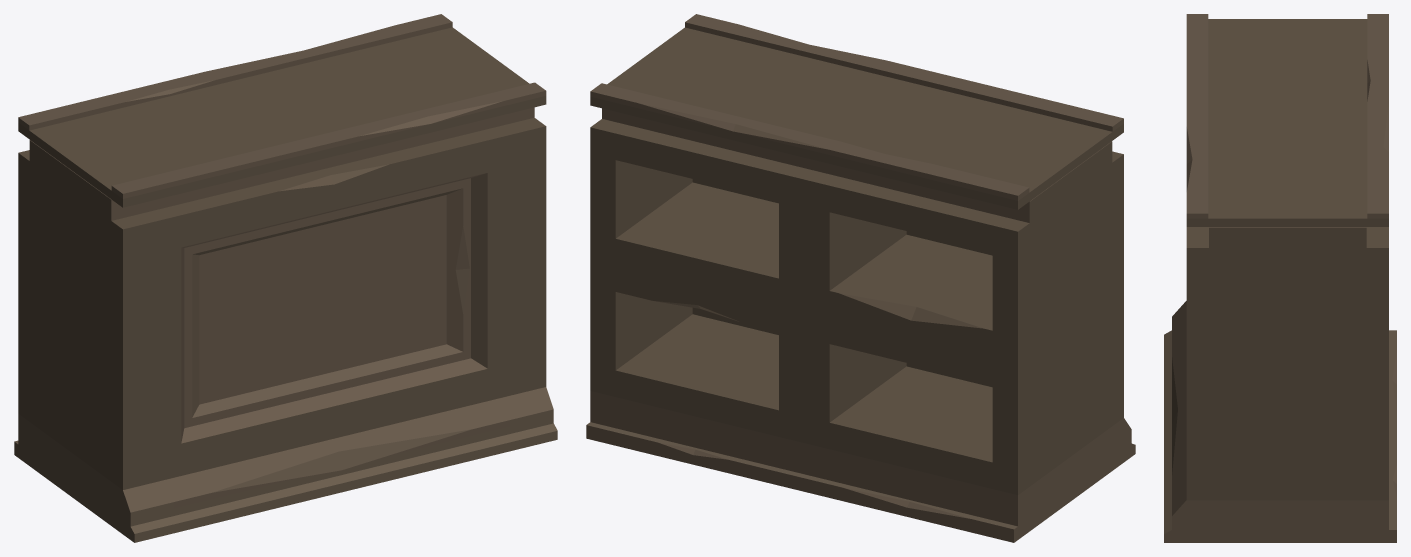
The model's file is SFHW_Reception_Table_002.fbx.
3 renders of one model, left to right at view 1: azimuth 30°, elevation 25°; view 2: azimuth 150°, elevation 25°; view 3: azimuth 270°, elevation 25°, orthographic. The views are drawn at different scales.
Visible parts, largest first — view 1: SFHW_Reception_Table_002; view 2: SFHW_Reception_Table_002; view 3: SFHW_Reception_Table_002.
Part boxes in pixels (x1,y1,x2,y2): SFHW_Reception_Table_002: (14,14,557,542); SFHW_Reception_Table_002: (586,14,1135,542); SFHW_Reception_Table_002: (1164,14,1396,542).
Size of the model in its own units: 140 by 108 by 68.94.
